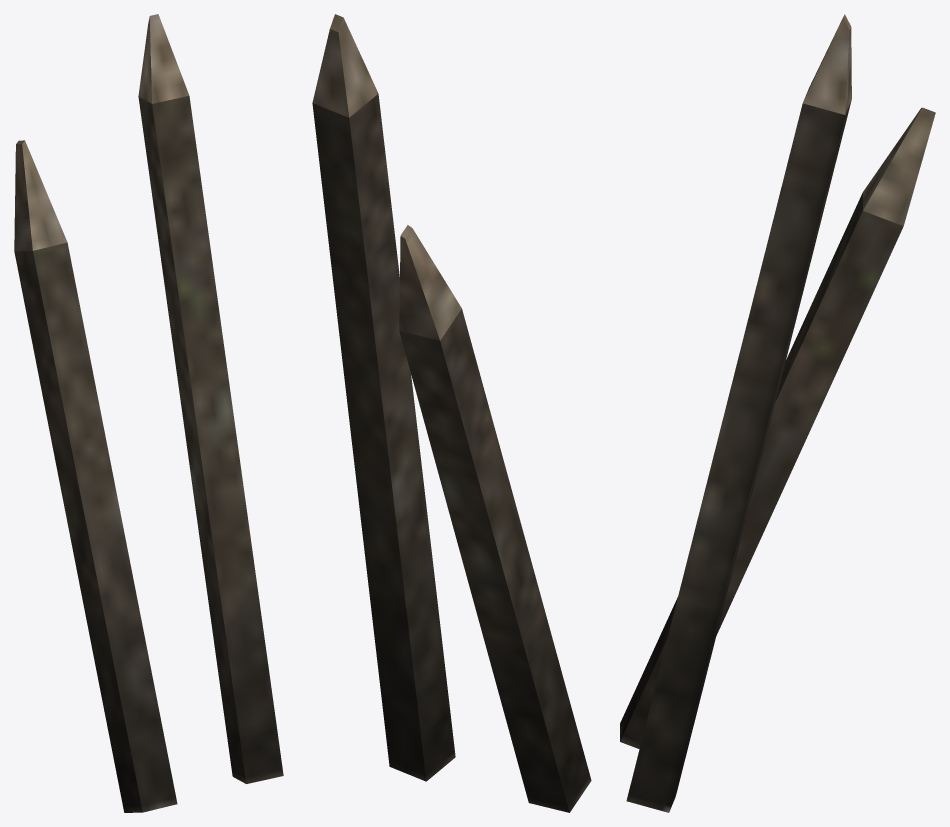
The model's file is angled_spikes.obj.
3 renders of one model, left to right at view 1: azimuth 30°, elevation 25°; view 2: azimuth 150°, elevation 25°; view 3: azimuth 270°, elevation 25°, orthographic. The views are drawn at different scales.
Parts seen in each view (by area): view 1: cube; view 2: cube; view 3: cube.
Part boxes in pixels (bbox=[...]): cube: bbox=[14, 14, 283, 812]; cube: bbox=[312, 14, 591, 812]; cube: bbox=[620, 14, 935, 812].
Size of the model in its own units: 0.8061 by 3.66 by 1.34.
